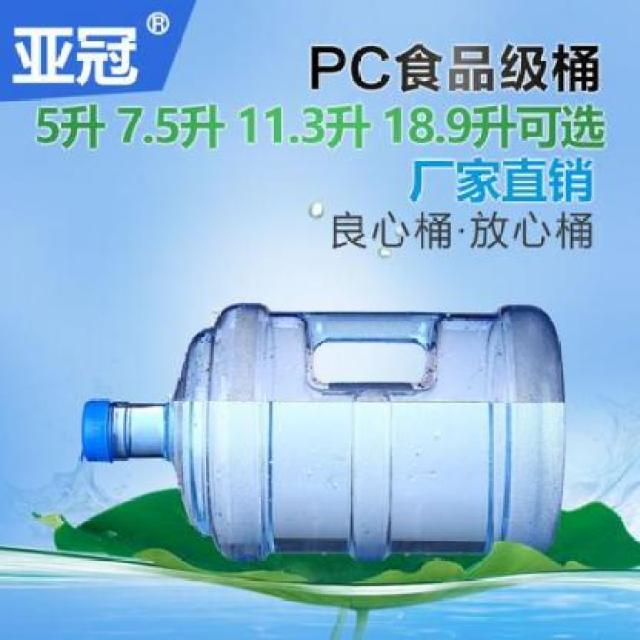coolerbottle: (77, 295, 573, 567)
